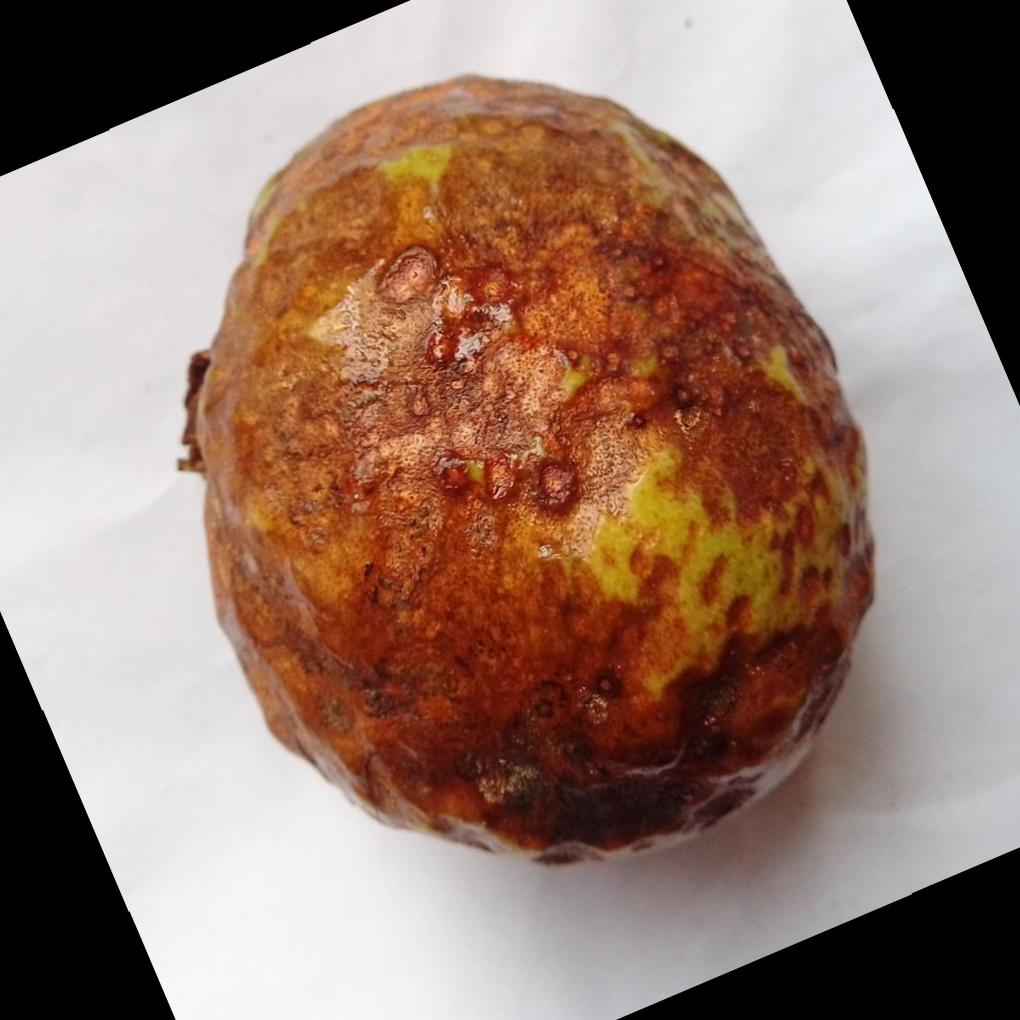FreshOrange: (175, 69, 877, 865)
